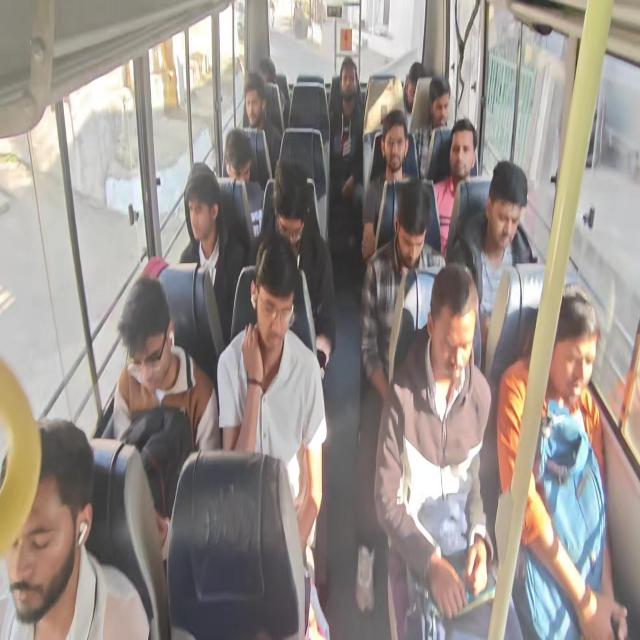person: (3, 410, 98, 624), (115, 277, 175, 392), (548, 300, 594, 407), (436, 275, 479, 384), (485, 165, 528, 255), (261, 248, 291, 351), (276, 170, 306, 243), (397, 191, 427, 264), (189, 168, 215, 246), (222, 130, 253, 182), (405, 64, 428, 110), (242, 85, 265, 130), (450, 125, 473, 167), (339, 59, 361, 102), (430, 90, 448, 126), (386, 132, 403, 169), (254, 56, 277, 82)
